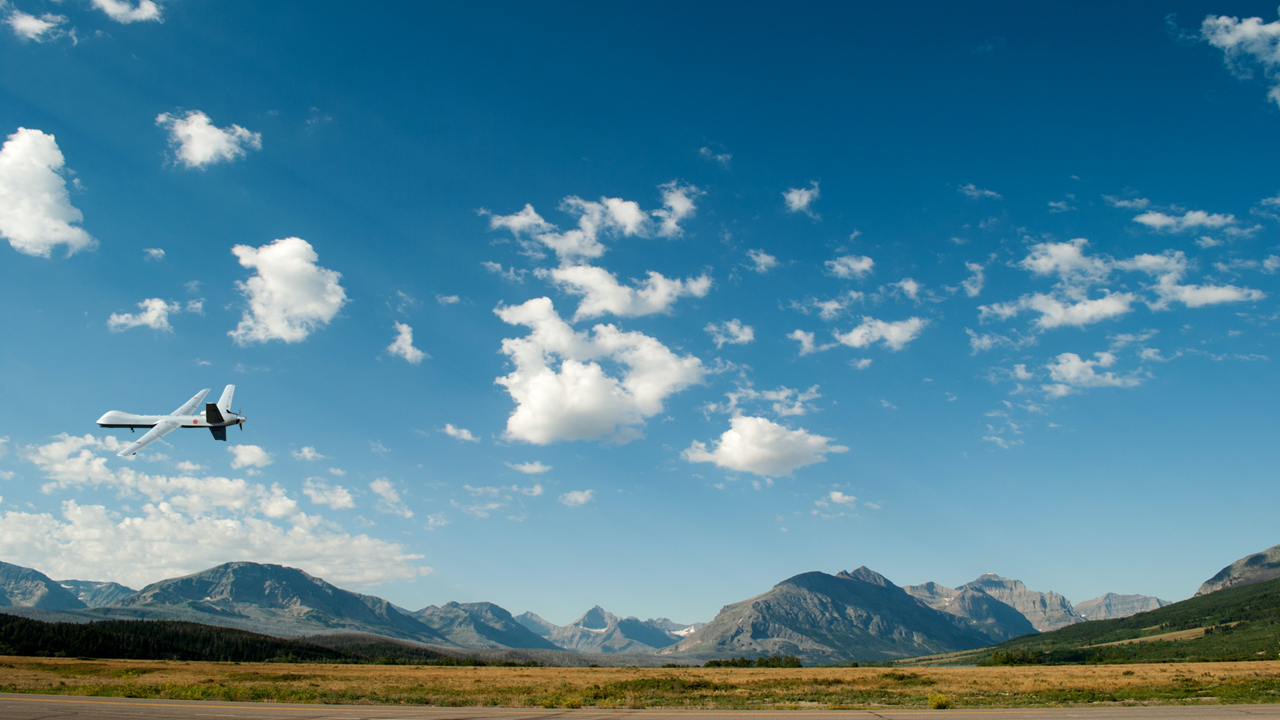military drone: (95, 384, 246, 456)
